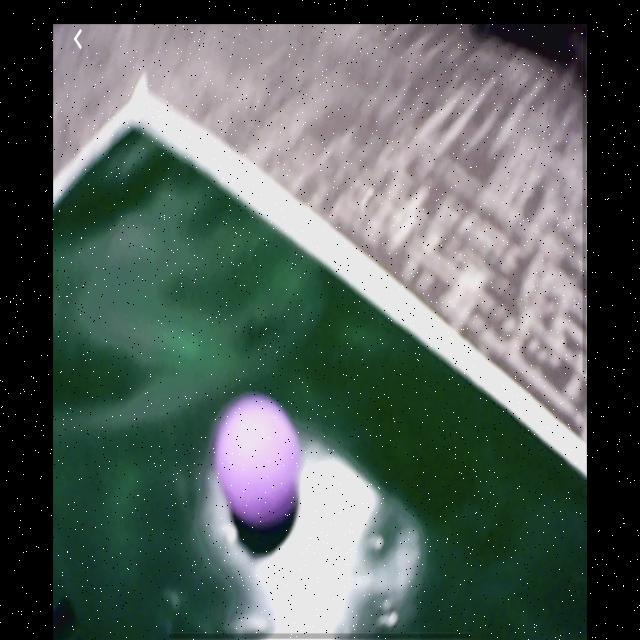ball: (214, 393, 304, 537)
